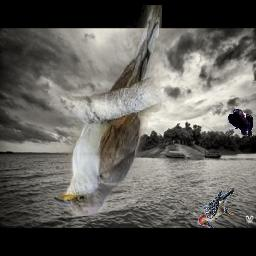Crow: (227, 108, 253, 136)
Cuckoo: (52, 6, 162, 217)
Woodpecker: (198, 188, 235, 228)
